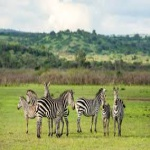Animal: (36, 90, 74, 137), (74, 89, 107, 137), (14, 88, 37, 122), (112, 86, 124, 137), (101, 100, 111, 137)
Uncultivated: (2, 76, 147, 148)
